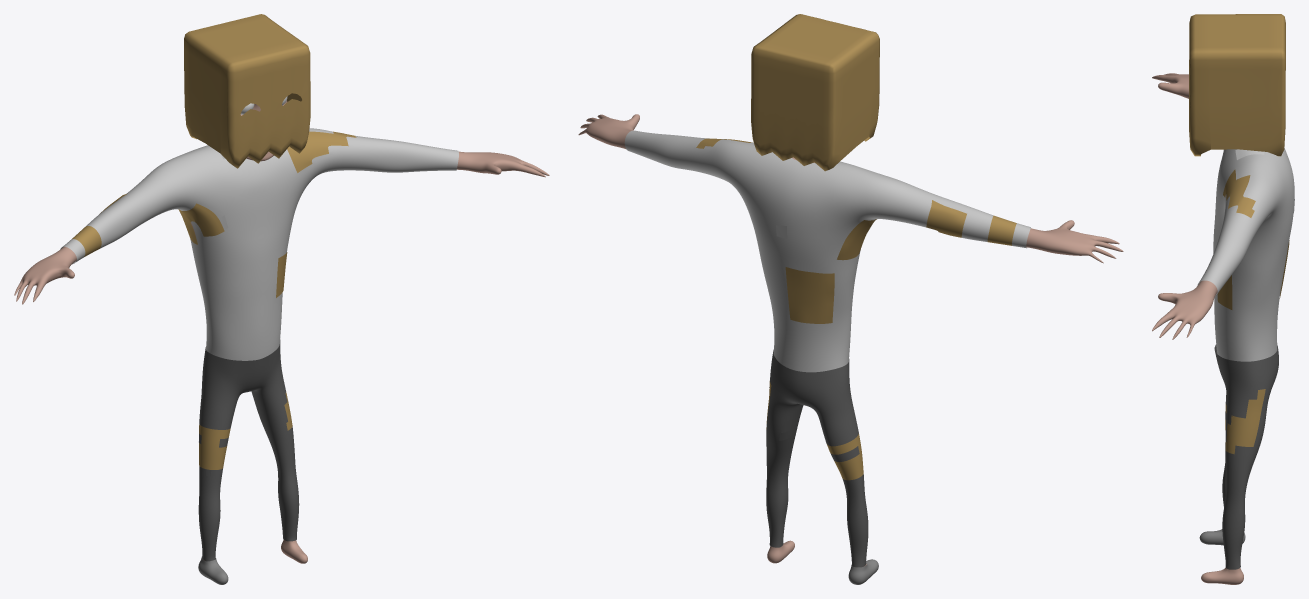
The model's file is Paranoico.fbx.
3 renders of one model, left to right at view 1: azimuth 30°, elevation 25°; view 2: azimuth 150°, elevation 25°; view 3: azimuth 270°, elevation 25°, orthographic.
Visible parts, largest first — view 1: polySurface10; view 2: polySurface10; view 3: polySurface10.
Boxes of the visible parts, x1,y1,x2,y2 form: polySurface10: [14, 14, 549, 584]; polySurface10: [578, 14, 1123, 584]; polySurface10: [1152, 14, 1294, 584].
Bounding box in the file's own units: 62.04 × 59.18 × 14.39.
